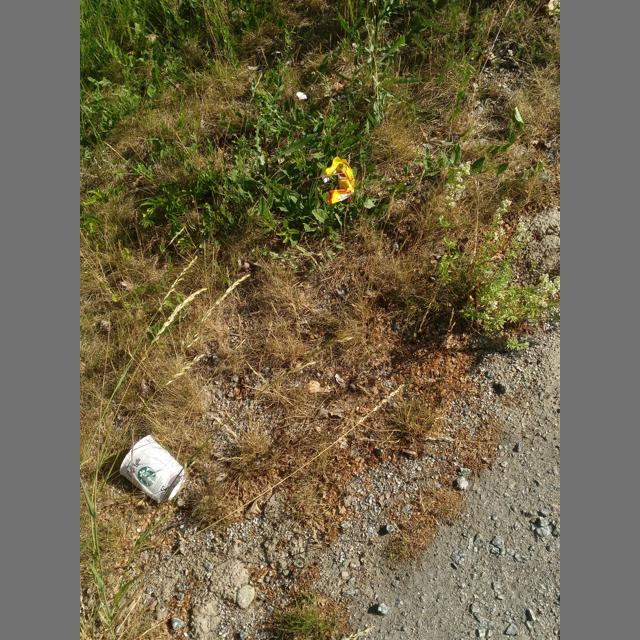litter: (119, 435, 188, 503), (321, 157, 354, 205)
